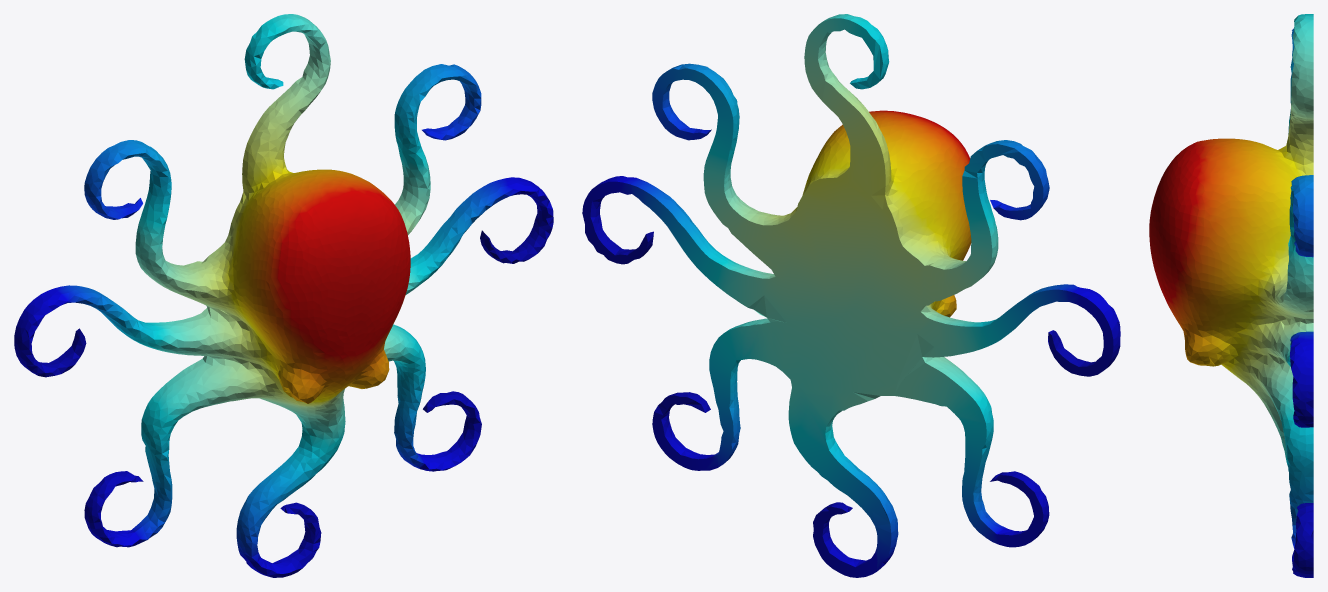
File: octopus_ours_poisson.glb
3 renders of one model, left to right at view 1: azimuth 30°, elevation 25°; view 2: azimuth 150°, elevation 25°; view 3: azimuth 270°, elevation 25°, orthographic.
Parts seen in each view (by area): view 1: octopus_smooth.obj; view 2: octopus_smooth.obj; view 3: octopus_smooth.obj.
Boxes of the visible parts, x1=… form: octopus_smooth.obj: x1=14, y1=14, x2=553, y2=577; octopus_smooth.obj: x1=582, y1=14, x2=1120, y2=577; octopus_smooth.obj: x1=1149, y1=14, x2=1313, y2=577.
Size of the model in its own units: 1.92 by 1.92 by 0.5226.
